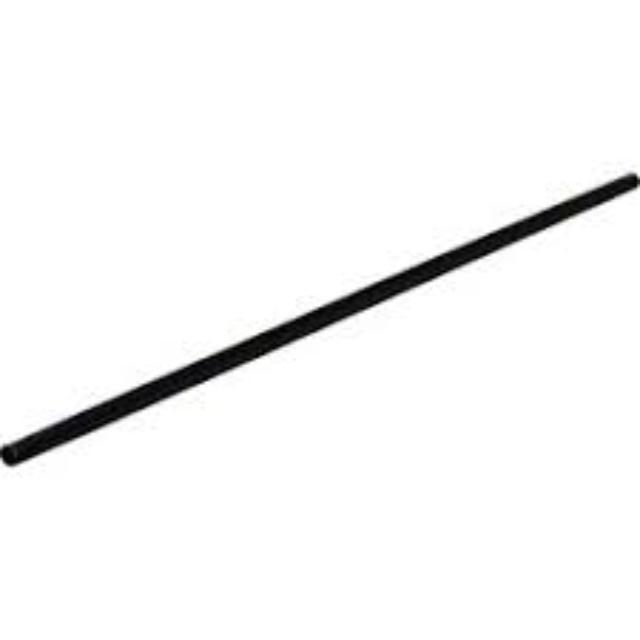Plastico descartable: (0, 174, 640, 465)
